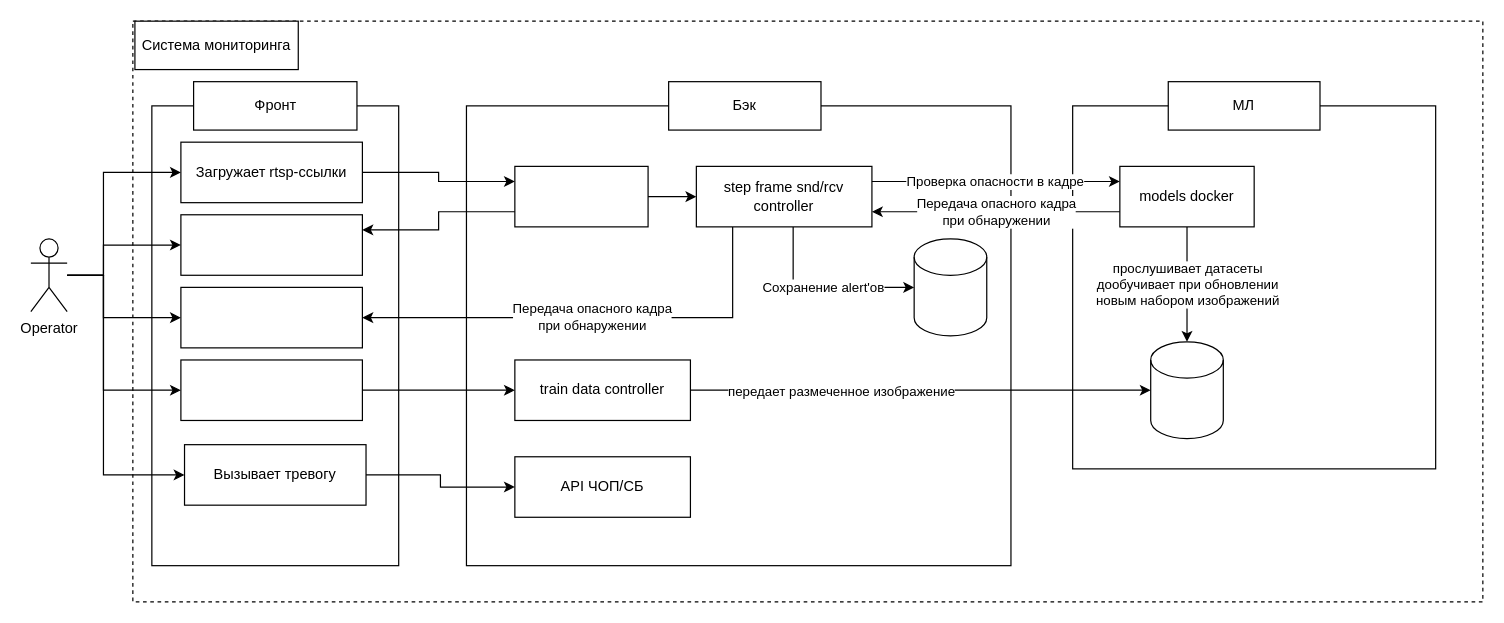
Image size: 1504x623. Some labels were removed from this diagram. Each missing label, with the centre of its shape:
MongoDB alert images: the point at 950,287
MongoDB train images: the point at 1186,390
rtsp-livestream: the point at 581,196
Загружает размеченный ответ: the point at 271,389
Получает опасный кадр: the point at 271,317
Просматривает видео: the point at 271,244
